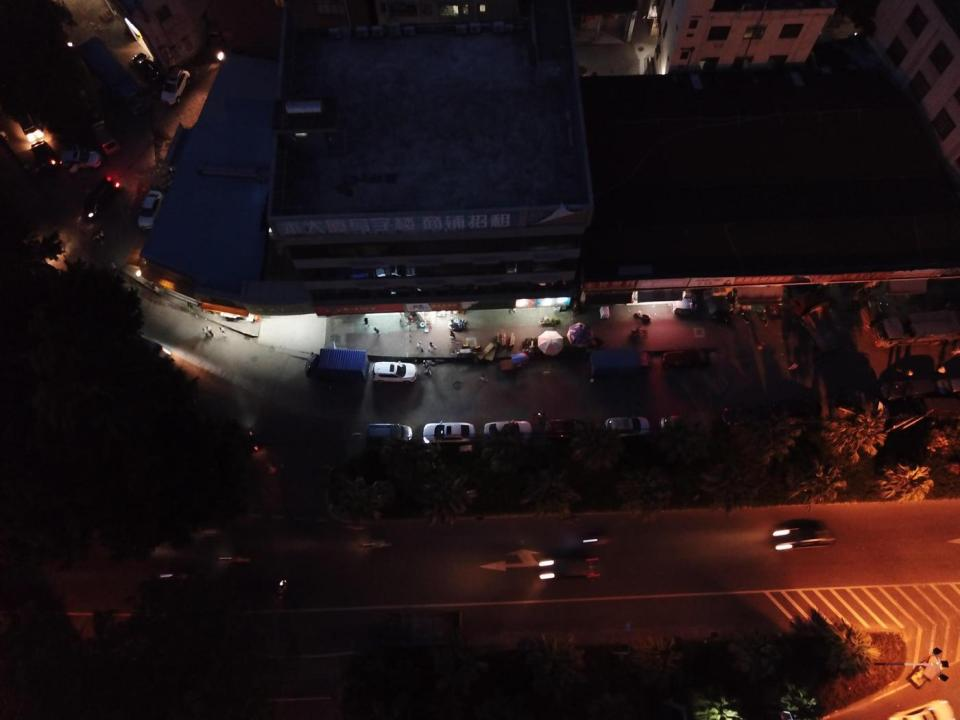car: (772, 520, 837, 551), (82, 176, 120, 220), (538, 556, 603, 580), (888, 698, 956, 720), (422, 419, 476, 446), (662, 348, 711, 374), (160, 66, 190, 107), (30, 139, 61, 178), (59, 148, 101, 174), (132, 51, 163, 86), (137, 190, 164, 230), (484, 418, 533, 440), (605, 416, 651, 439), (545, 418, 592, 439), (660, 414, 703, 436), (722, 404, 762, 426)
truck: (78, 36, 152, 116), (872, 309, 960, 349), (588, 346, 654, 382)
van: (89, 120, 122, 155), (365, 422, 413, 445)
